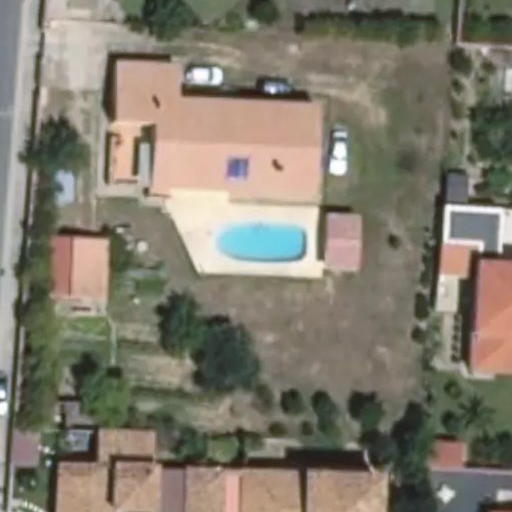pool: (213, 222, 309, 265)
